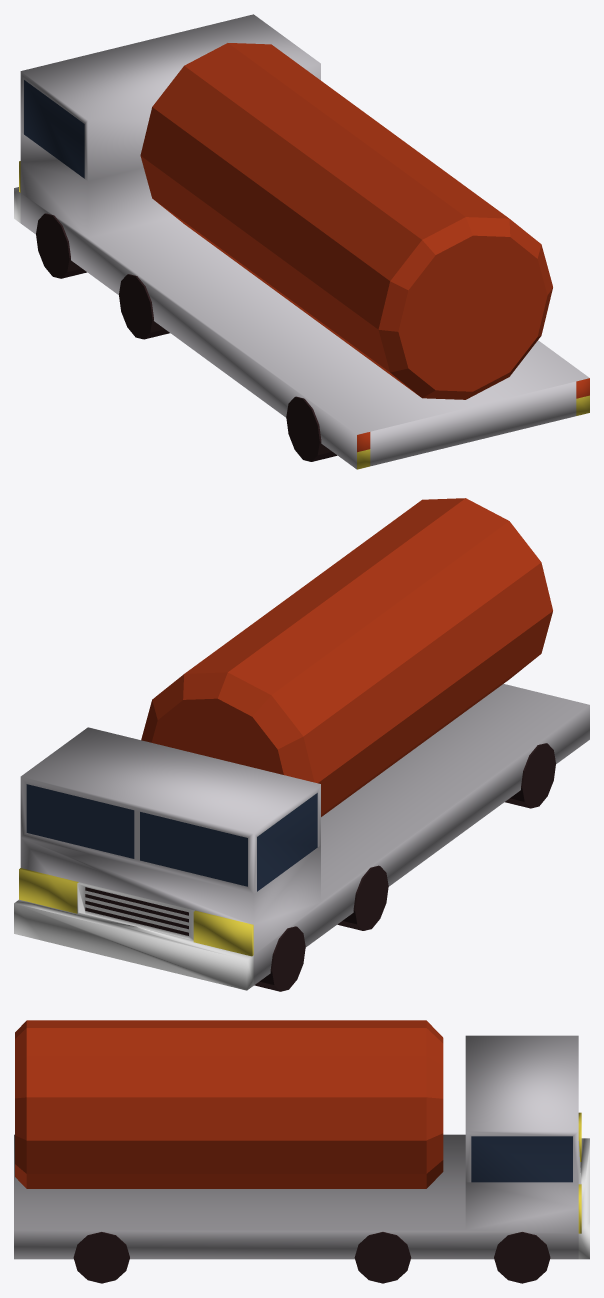
Rendered from camion-cisterna.glb.
3 renders of one model, top to bottom at view 1: azimuth 30°, elevation 25°; view 2: azimuth 150°, elevation 25°; view 3: azimuth 270°, elevation 25°, orthographic. The views are drawn at different scales.
Visible parts, largest first — view 1: tank, camion, wheels; view 2: camion, tank, wheels; view 3: tank, camion, wheels.
Boxes of the visible parts, bbox=[...] form: tank: bbox=[140, 43, 552, 399]; camion: bbox=[14, 14, 589, 469]; wheels: bbox=[36, 213, 337, 461]; camion: bbox=[14, 684, 589, 990]; tank: bbox=[141, 498, 552, 816]; wheels: bbox=[254, 743, 555, 991]; tank: bbox=[15, 1020, 443, 1188]; camion: bbox=[14, 1035, 589, 1259]; wheels: bbox=[73, 1232, 550, 1283].
Size of the model in its own units: 4.06 by 4.05 by 10.2.
